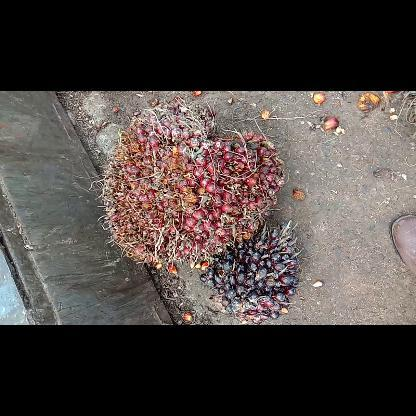TBS abnormal: (199, 222, 301, 324)
TBS masak: (93, 101, 285, 269)
